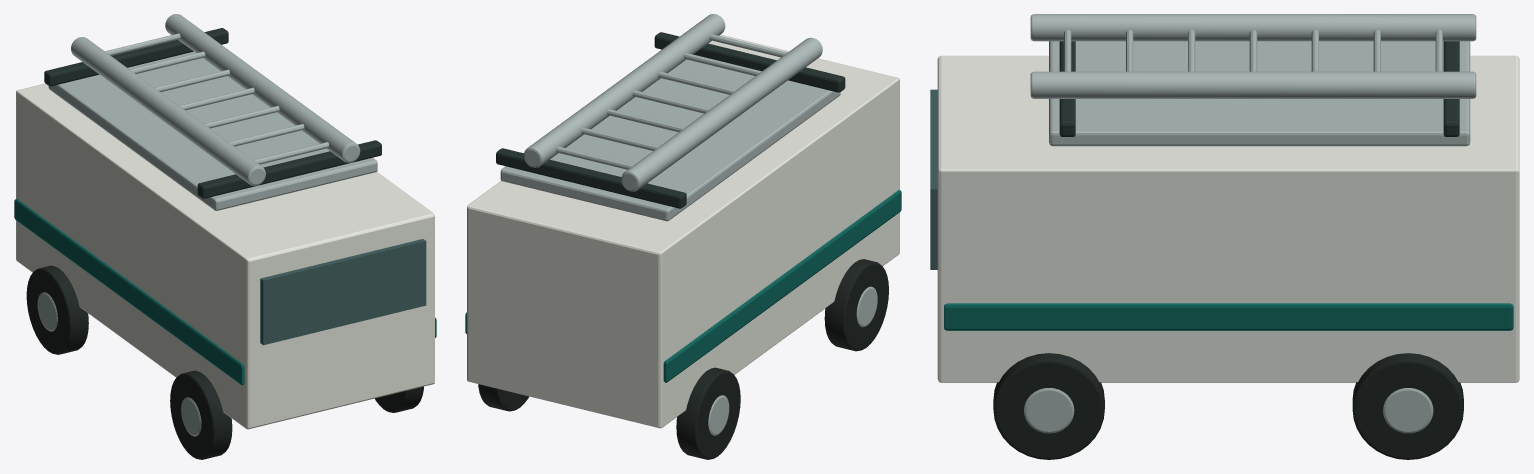
Rendered from maintenance.glb.
3 views of the same model, side by side, from view 1: azimuth 30°, elevation 25°; view 2: azimuth 150°, elevation 25°; view 3: azimuth 270°, elevation 25° (orthographic). The views are drawn at different scales.
Parts seen in each view (by area): view 1: Truck enamel.002, Brushed stainless steel.002, Tinted glazing.002, Rubber.002, NouDilo vehicle livery.002, Powder coated charcoal.002; view 2: Truck enamel.002, Brushed stainless steel.002, Rubber.002, NouDilo vehicle livery.002, Powder coated charcoal.002; view 3: Truck enamel.002, Brushed stainless steel.002, NouDilo vehicle livery.002, Rubber.002, Powder coated charcoal.002, Tinted glazing.002.
Part boxes in pixels (x1,y1,x2,y2): Truck enamel.002: [16, 83, 434, 429]; Brushed stainless steel.002: [37, 14, 377, 436]; Tinted glazing.002: [260, 239, 426, 345]; Rubber.002: [26, 265, 423, 459]; NouDilo vehicle livery.002: [14, 199, 436, 385]; Powder coated charcoal.002: [44, 28, 381, 198]; Truck enamel.002: [467, 34, 899, 428]; Brushed stainless steel.002: [500, 14, 877, 435]; Rubber.002: [478, 259, 888, 459]; NouDilo vehicle livery.002: [465, 190, 901, 382]; Powder coated charcoal.002: [496, 32, 845, 208]; Truck enamel.002: [937, 55, 1519, 382]; Brushed stainless steel.002: [1024, 14, 1476, 433]; NouDilo vehicle livery.002: [944, 303, 1513, 330]; Rubber.002: [993, 353, 1463, 459]; Powder coated charcoal.002: [1059, 41, 1459, 136]; Tinted glazing.002: [930, 89, 937, 269].
Size of the model in its own units: 2.49 by 3.14 by 4.76.
